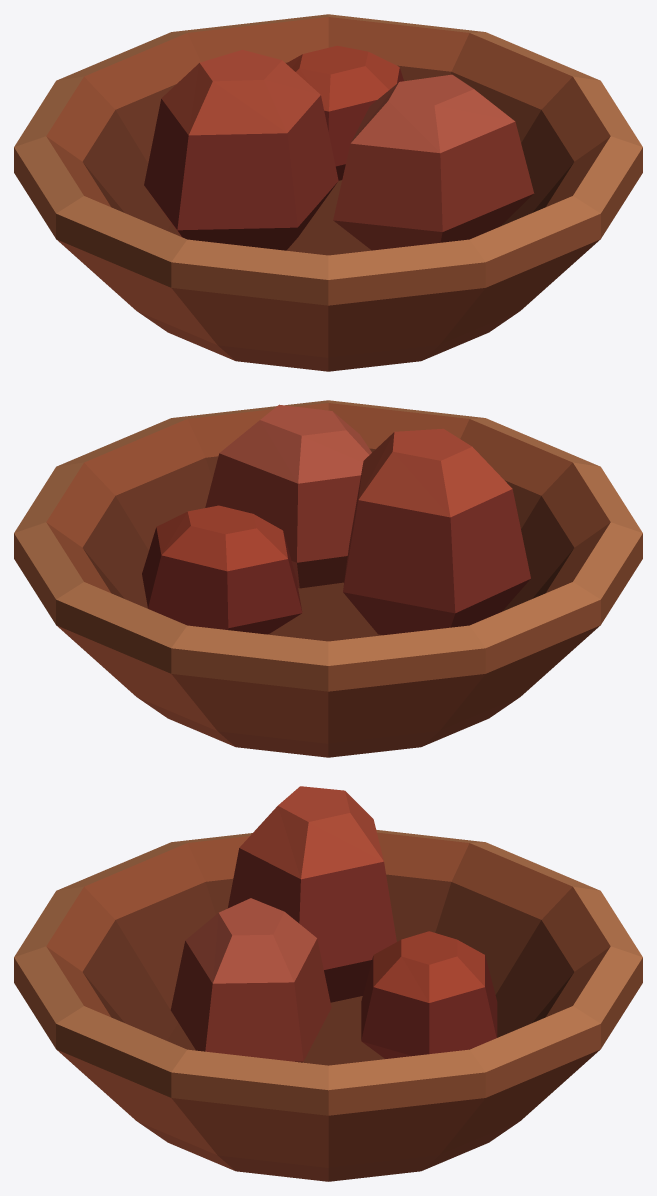
Rendered from canyon_23.glb.
3 views of the same model, one above another, from view 1: azimuth 30°, elevation 25°; view 2: azimuth 150°, elevation 25°; view 3: azimuth 270°, elevation 25° (orthographic).
Parts seen in each view (by area): view 1: canyon_23; view 2: canyon_23; view 3: canyon_23.
Part boxes in pixels (<box>): canyon_23: <box>14,14,642,371</box>; canyon_23: <box>14,400,642,757</box>; canyon_23: <box>14,786,642,1181</box>.
Bounding box in the file's own units: 2 × 0.891 × 2.
